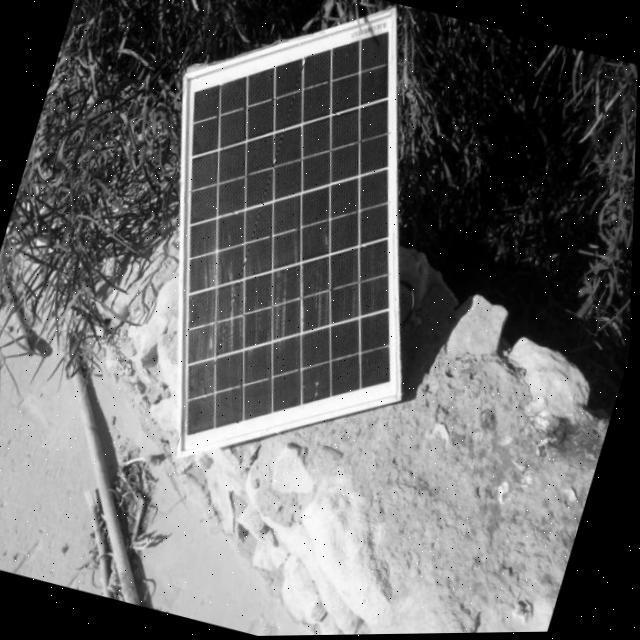Normal Solar Panel: (80, 0, 509, 512)
